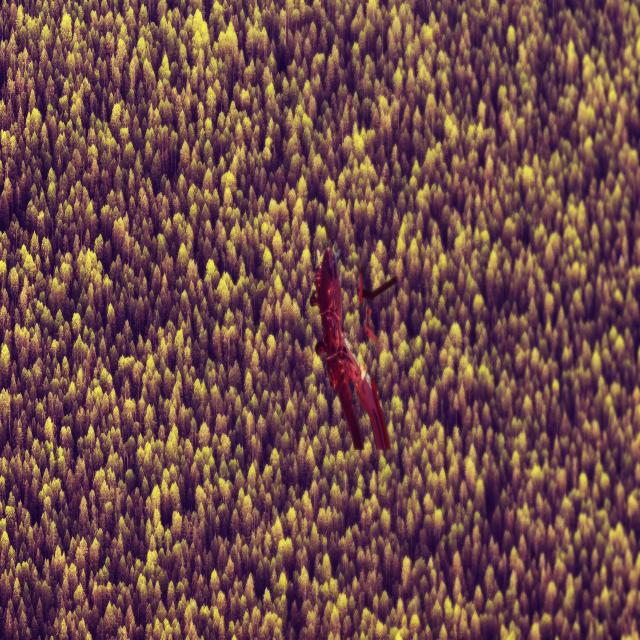airplane: (308, 246, 397, 453)
